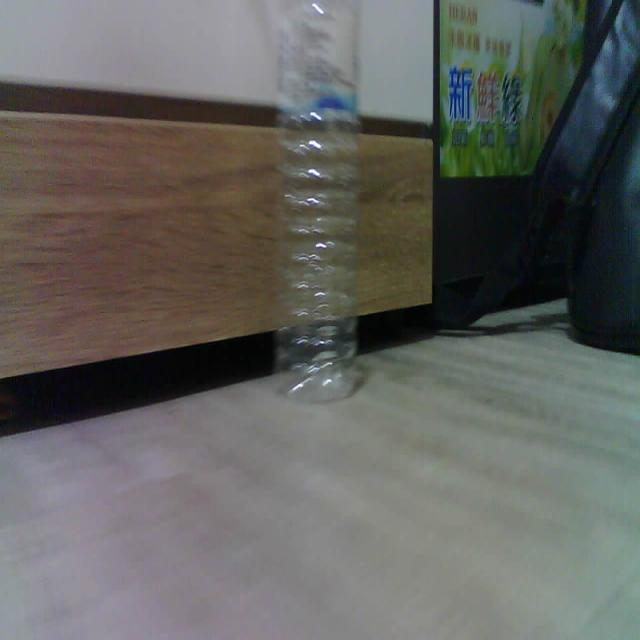bottle: (276, 0, 359, 400)
